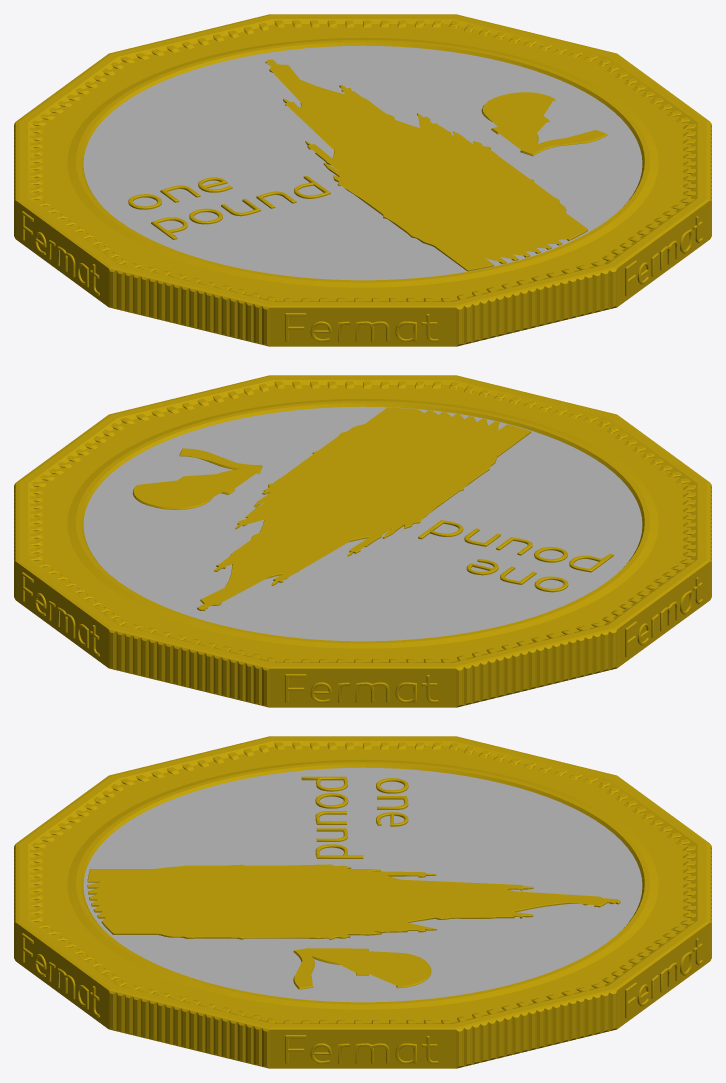
The model's file is LIBRA.fbx.
The picture shows the model from 3 angles, top to bottom: view 1: azimuth 30°, elevation 25°; view 2: azimuth 150°, elevation 25°; view 3: azimuth 270°, elevation 25°; orthographic projection.
Visible parts, largest first — view 1: LIBRA:LIBRA; view 2: LIBRA:LIBRA; view 3: LIBRA:LIBRA.
Part boxes in pixels (box(x1,y1,x2,y2)): LIBRA:LIBRA: box(14, 14, 711, 346); LIBRA:LIBRA: box(14, 375, 711, 707); LIBRA:LIBRA: box(14, 736, 711, 1068).
Bounding box in the file's own units: 1.3 × 0.0859 × 1.3.
